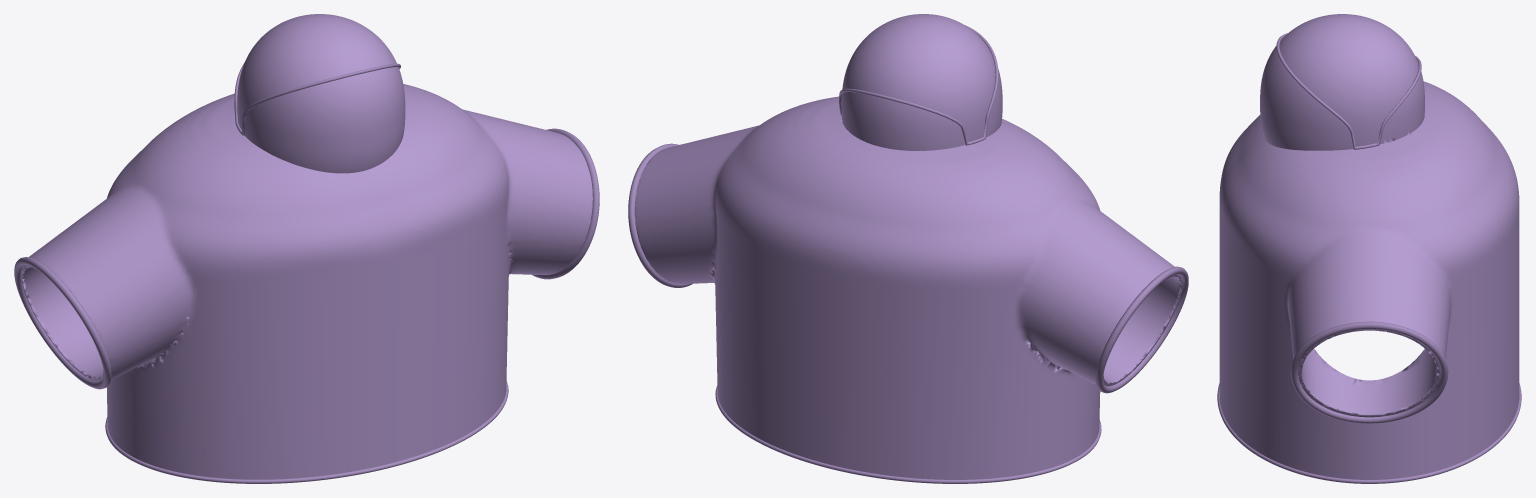
Rendered from Feminine-sweatshirt-top.glb.
3 renders of one model, left to right at view 1: azimuth 30°, elevation 25°; view 2: azimuth 150°, elevation 25°; view 3: azimuth 270°, elevation 25°, orthographic. The views are drawn at different scales.
Parts seen in each view (by area): view 1: Clothing / sweatshirt, Sleeve / open cuff -1 export, Shirt / hem export, Sleeve / open cuff 1 export, Neckline / seated binding export; view 2: Clothing / sweatshirt, Sleeve / open cuff -1 export, Shirt / hem export, Sleeve / open cuff 1 export, Neckline / seated binding export; view 3: Clothing / sweatshirt, Sleeve / open cuff 1 export, Shirt / hem export, Neckline / seated binding export.
Part boxes in pixels (x1,y1,x2,y2): Clothing / sweatshirt: (20,14,592,479); Sleeve / open cuff -1 export: (14,257,111,389); Shirt / hem export: (105,381,508,483); Sleeve / open cuff 1 export: (532,128,599,279); Neckline / seated binding export: (234,62,400,135); Clothing / sweatshirt: (634,14,1182,479); Sleeve / open cuff -1 export: (1095,266,1188,393); Shirt / hem export: (715,386,1101,483); Sleeve / open cuff 1 export: (628,143,692,287); Neckline / seated binding export: (839,25,998,145); Clothing / sweatshirt: (1219,14,1519,479); Sleeve / open cuff 1 export: (1290,321,1448,423); Shirt / hem export: (1217,383,1521,483); Neckline / seated binding export: (1276,33,1421,149).
Bounding box in the file's own units: 1.09 × 0.772 × 0.564.
